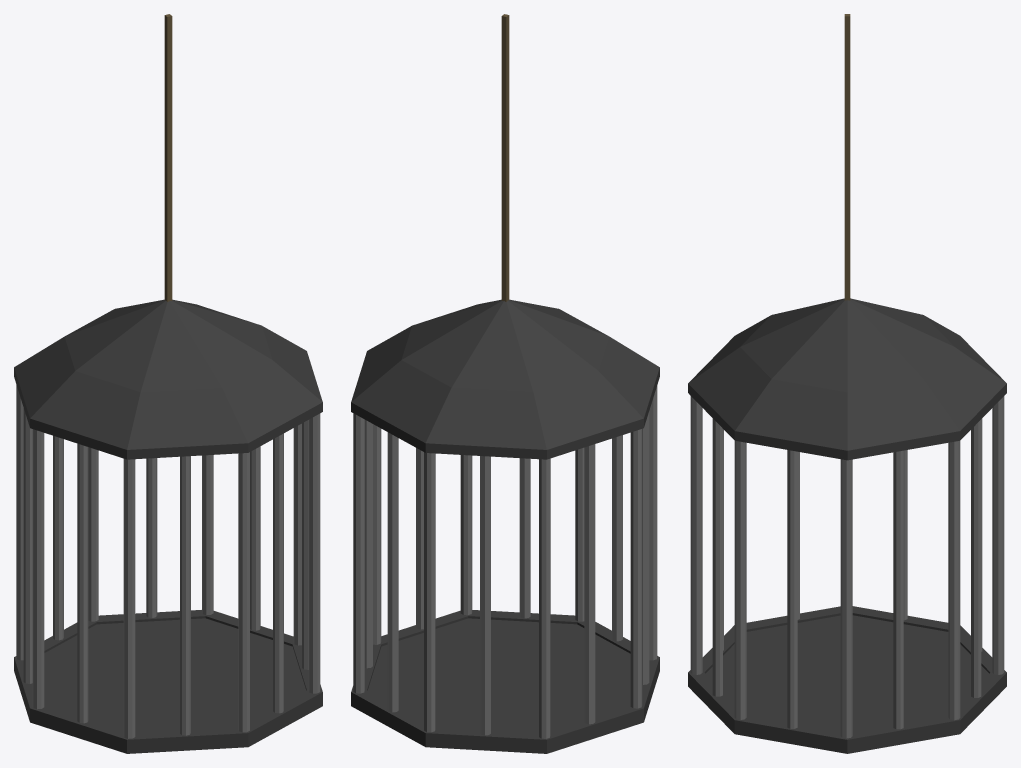
The model's file is Cage.fbx.
3 renders of one model, left to right at view 1: azimuth 30°, elevation 25°; view 2: azimuth 150°, elevation 25°; view 3: azimuth 270°, elevation 25°, orthographic.
Visible parts, largest first — view 1: Cage, Rope; view 2: Cage, Rope; view 3: Cage, Rope.
Boxes of the visible parts, bbox=[...] form: Cage: bbox=[14, 299, 322, 753]; Rope: bbox=[164, 14, 172, 301]; Cage: bbox=[351, 299, 659, 753]; Rope: bbox=[501, 14, 509, 301]; Cage: bbox=[688, 298, 1006, 753]; Rope: bbox=[844, 14, 850, 300].
Size of the model in its own units: 200 by 465 by 200.
